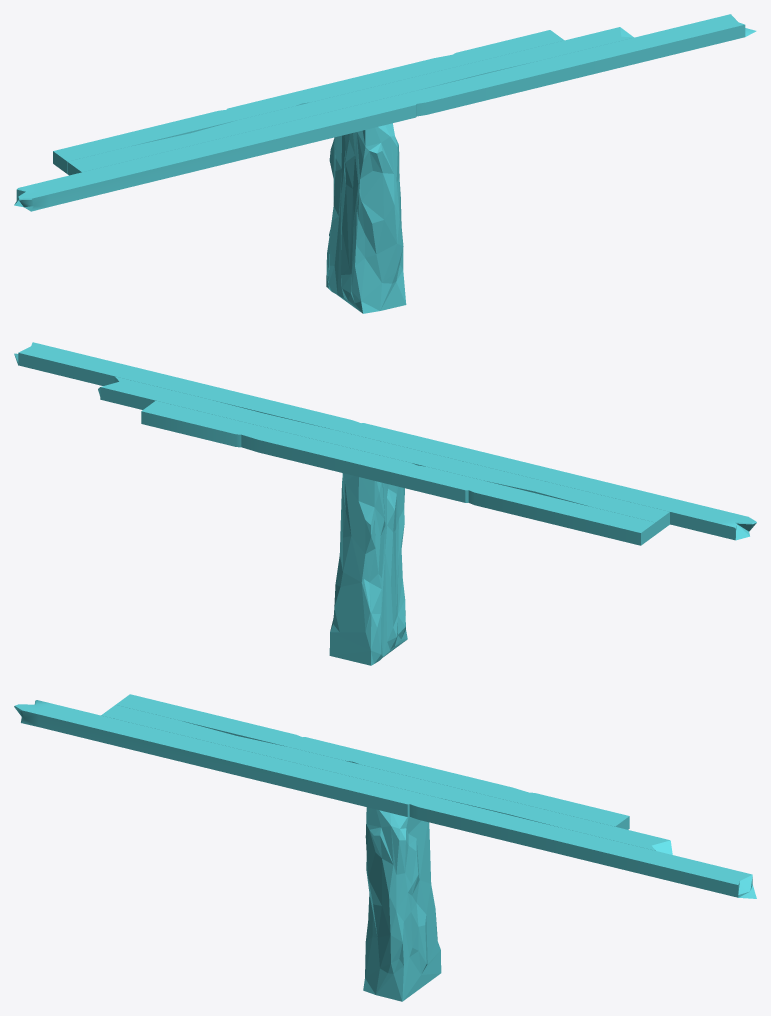
Rendered from New_platform4.fbx.
The picture shows the model from 3 angles, top to bottom: view 1: azimuth 30°, elevation 25°; view 2: azimuth 150°, elevation 25°; view 3: azimuth 330°, elevation 25°; orthographic projection.
Visible parts, largest first — view 1: New_platform4; view 2: New_platform4; view 3: New_platform4.
Boxes of the visible parts, bbox=[...] form: New_platform4: bbox=[14, 14, 756, 313]; New_platform4: bbox=[14, 342, 756, 665]; New_platform4: bbox=[14, 694, 756, 1001].
Bounding box in the file's own units: 5318 × 1378 × 541.
